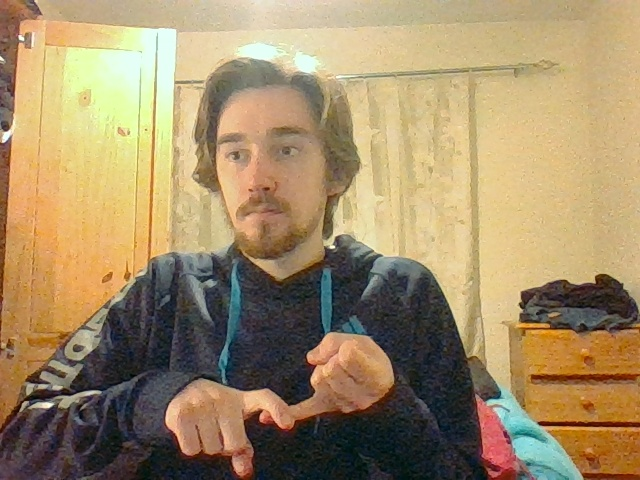step: (178, 331, 395, 476)
